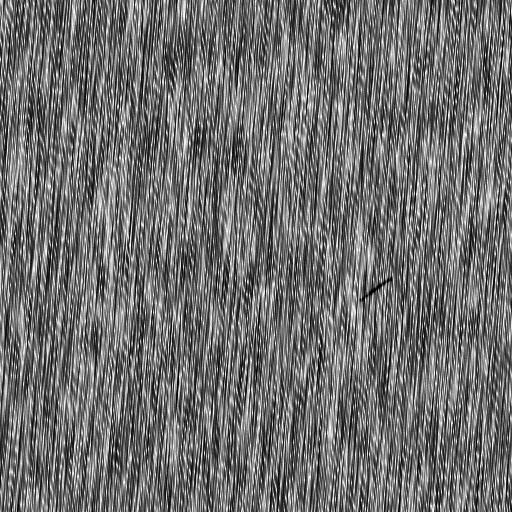DefectTypeC: (359, 277, 394, 302)
